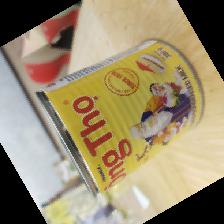Ong_tho: (37, 36, 204, 194)
